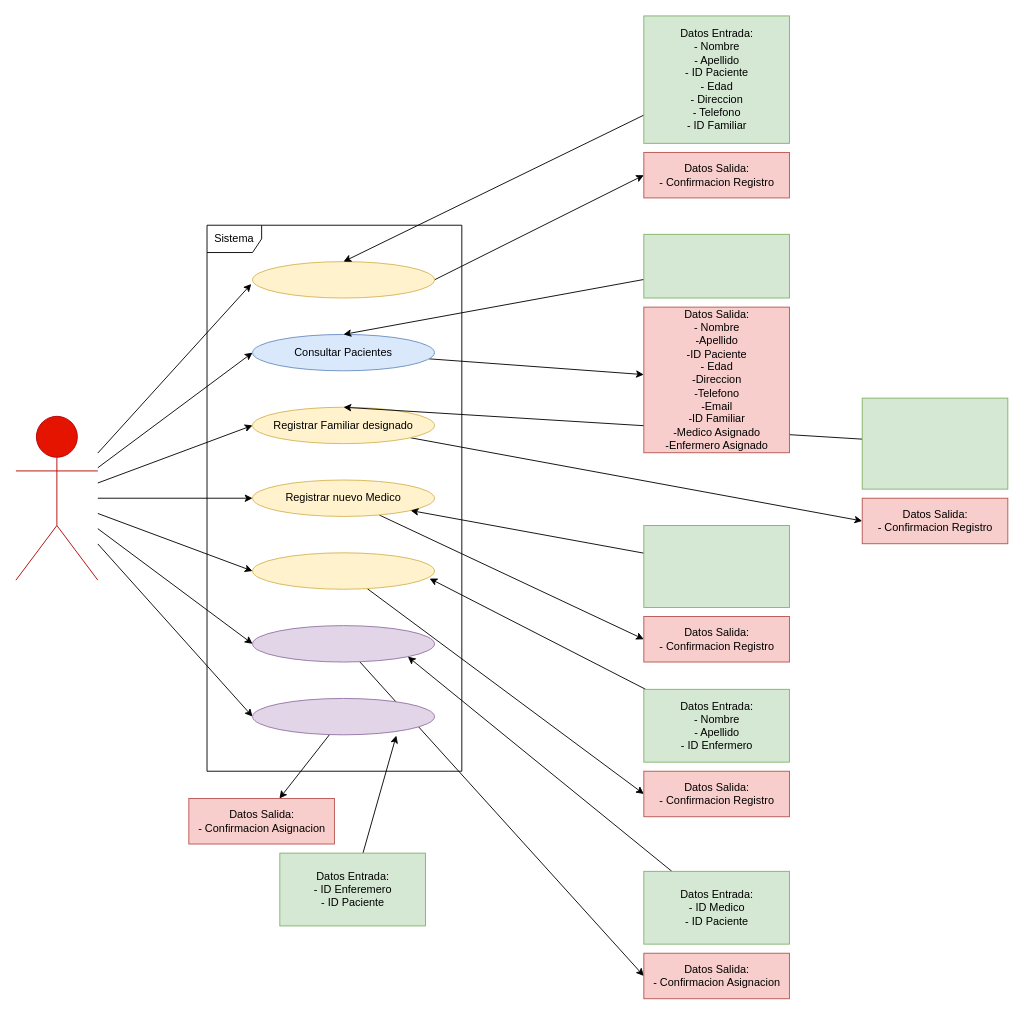
The diagram is 1024 pixels wide and 1015 high, and some of its shapes have lost their labels. The shapes that lost their labels are listed below. From the top down, each one's centre as x and y in pixels, then its label:
At point 343,279: "Registrar Paciente".
At point 716,265: "Datos Entrada: - ID Paciente".
At point 934,443: "Datos Entrada: - Nombre - Apellido - ID Familiar - Direccion - Telefono -Email".
At point 56,497: "Auxiliar".
At point 343,570: "Registrar nuevo enfermero".
At point 716,566: "Datos Entrada: - Nombre - Apellido - ID Medico".
At point 343,643: "Asignar medico".
At point 343,716: "Asignar enfermero".
